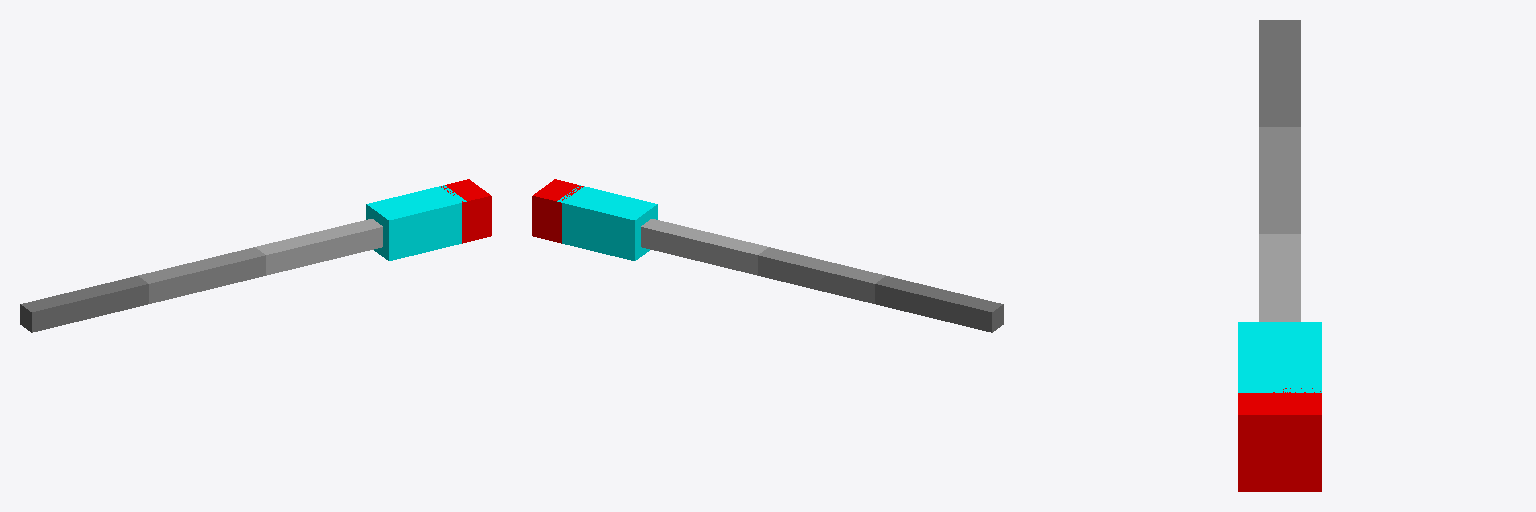
robot.urdf — simple:
<?xml version="1.0"?>
<robot name="simple">
    <link name="base_link">
    </link>

    <link name="link0">
        <visual>
            <origin xyz="0.3 0 0" rpy="0 0 0" />
            <geometry>
                <box size="0.6 0.1 0.1"/>
            </geometry>
            <material name="g0">
                <color rgba="0.5 0.5 0.5 1.0"/>
            </material>
        </visual>
    </link>
    <link name="link1">
        <visual>
            <origin xyz="0.3 0 0" rpy="0 0 0" />
            <geometry>
                <box size="0.6 0.1 0.1"/>
            </geometry>
            <material name="g1">
                <color rgba="0.6 0.6 0.6 1.0"/>
            </material>
        </visual>
    </link>
    <link name="link2">
        <visual>
            <origin xyz="0.3 0 0" rpy="0 0 0" />
            <geometry>
                <box size="0.6 0.1 0.1"/>
            </geometry>
            <material name="g2">
                <color rgba="0.7 0.7 0.7 1.0"/>
            </material>
        </visual>
    </link>

    <link name="link3">
        <visual>
            <origin xyz="0.2 0 0" rpy="0 0 0" />
            <geometry>
                <box size="0.4 0.2 0.2"/>
            </geometry>
            <material name="Cyan">
                <color rgba="0 1.0 1.0 1.0"/>
            </material>
        </visual>
    </link>
    <link name="eef">
        <visual>
            <origin xyz="0.15 0 0" rpy="0 0 0" />
            <geometry>
                <box size="0.15 0.2 0.2"/>
            </geometry>
            <material name="red">
                <color rgba="1 0.0 0.0 1.0"/>
            </material>
        </visual>
    </link>

    <joint name="base_to_link0" type="revolute">
        <parent link="base_link"/>
        <child link="link0"/>
        <axis xyz="0 0 1"/>
        <limit lower="-1.0" upper="1.0" effort="1000.0" velocity="0.5"/>
        <origin xyz="0.0 0.0 0.0"/>
    </joint>
    <joint name="l0_to_l1" type="revolute">
        <parent link="link0"/>
        <child link="link1"/>
        <axis xyz="0 0 1"/>
        <limit lower="-1.0" upper="1.0" effort="1000.0" velocity="0.5"/>
        <origin xyz="0.6 0.0 0.0"/>
    </joint>
    <joint name="l1_to_l2" type="revolute">
        <parent link="link1"/>
        <child link="link2"/>
        <axis xyz="0 0 1"/>
        <limit lower="-1.0" upper="1.0" effort="1000.0" velocity="0.5"/>
        <origin xyz="0.6 0.0 0.0"/>
    </joint>

    <joint name="l2_to_l3" type="revolute">
        <parent link="link2"/>
        <child link="link3"/>
        <axis xyz="0 0 1"/>
        <origin xyz="0.6 0.0 0.0"/>
        <limit lower="-1.0" upper="1.0" effort="1000.0" velocity="0.5"/>
    </joint>

    <joint name="ee" type="fixed">
        <parent link="link3"/>
        <child link="eef"/>
        <origin xyz="0.3 0.0 0.0"/>
    </joint>

</robot>

--- Render facts (derived) ---
Views: 3 orthographic renders of the robot side by side, from view 1: azimuth 30°, elevation 25°; view 2: azimuth 150°, elevation 25°; view 3: azimuth 270°, elevation 25°.
Model simple with 6 links and 5 joints (4 revolute, 1 fixed), rooted at base_link, posed all joints at 0.
Visible links, largest first — view 1: link3, link0, link1, link2, eef; view 2: link3, link0, link1, link2, eef; view 3: eef, link3, link0, link1, link2.
Boxes of the visible links, box(x1,y1,x2,y2) form: link3: box(366, 185, 466, 260); link0: box(20, 276, 148, 332); link1: box(138, 247, 265, 303); link2: box(255, 219, 382, 275); eef: box(441, 179, 491, 243); link3: box(557, 185, 657, 260); link0: box(875, 276, 1003, 332); link1: box(758, 247, 885, 303); link2: box(641, 219, 768, 275); eef: box(532, 179, 583, 243); eef: box(1238, 388, 1321, 491); link3: box(1238, 322, 1321, 392); link0: box(1259, 20, 1300, 126); link1: box(1259, 127, 1300, 233); link2: box(1259, 234, 1300, 321).
Size in the robot's own frame: 2.33 by 0.2 by 0.2 metres.
Geometry: primitives only (box / cylinder / sphere), no mesh files.